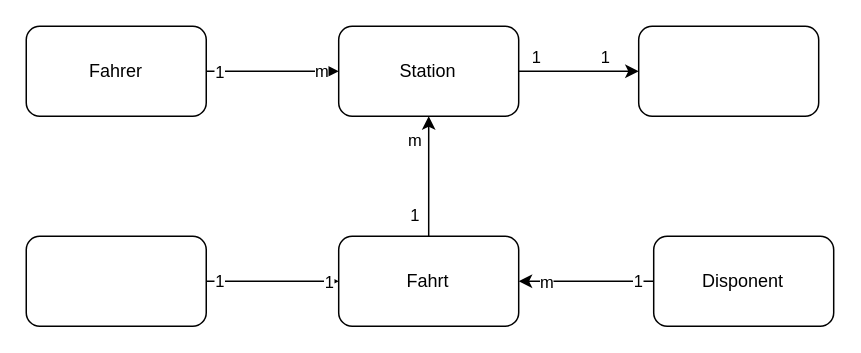
Some shapes in this 861 by 353 pixel diagram are drawn without their labels. The shapes that lost their labels are listed below. From the top down, each one's centre as x and y in pixels, then its label:
At pixel 728 70: "Ort".
At pixel 115 280: "Fahrzeug".
